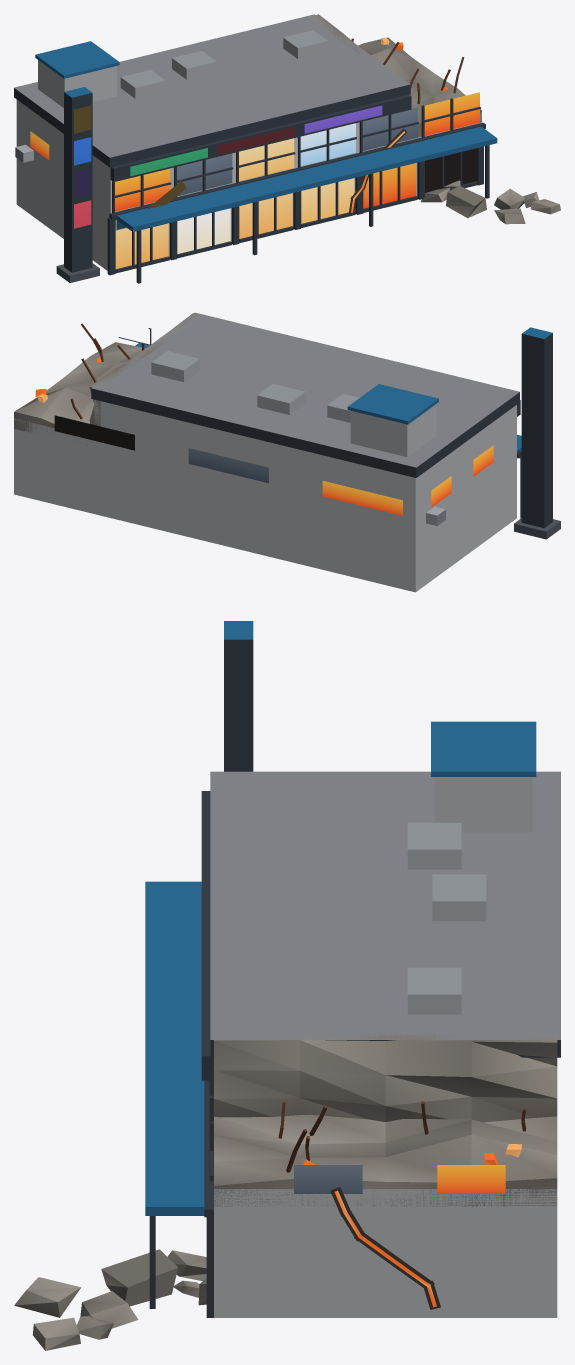
The model's file is bld_com_B_damaged.meshopt.glb.
3 views of the same model, one above another, from view 1: azimuth 30°, elevation 25°; view 2: azimuth 150°, elevation 25°; view 3: azimuth 270°, elevation 25° (orthographic). The views are drawn at different scales.
Parts seen in each view (by area): view 1: bld_com_B_damaged; view 2: bld_com_B_damaged; view 3: bld_com_B_damaged.
Part boxes in pixels (x1,y1,x2,y2): bld_com_B_damaged: (14,14,560,283); bld_com_B_damaged: (14,312,560,592); bld_com_B_damaged: (14,621,560,1350).
Bounding box in the file's own units: 38.32 × 15.47 × 22.31.
